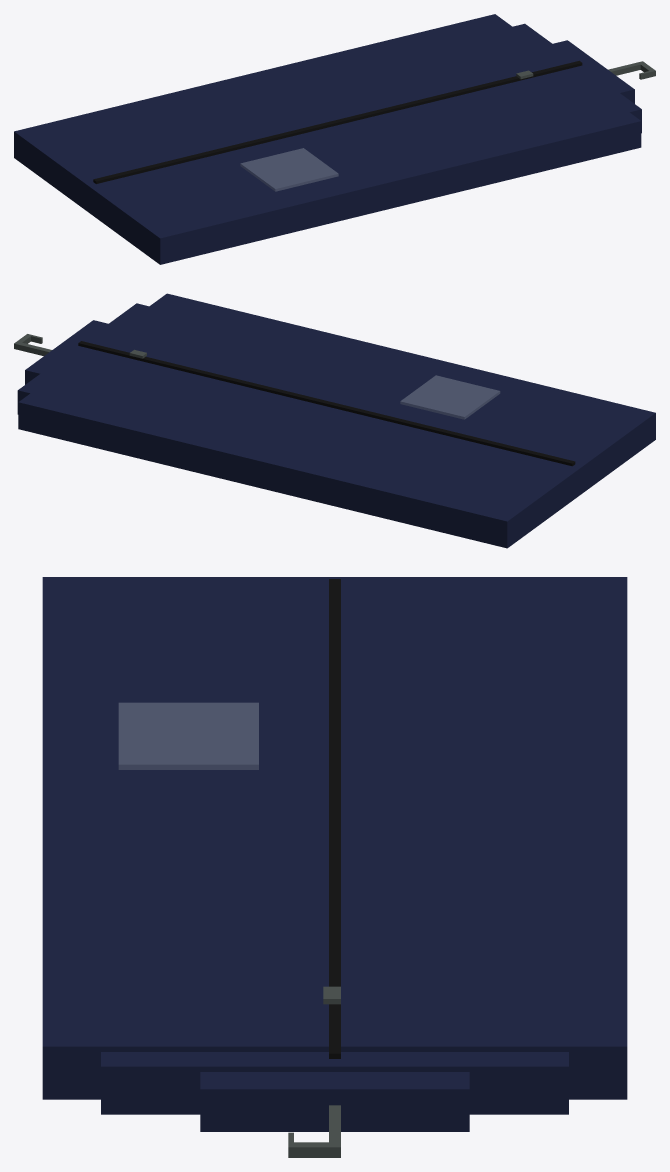
Rendered from outfit_storage.glb.
The picture shows the model from 3 angles, top to bottom: view 1: azimuth 30°, elevation 25°; view 2: azimuth 150°, elevation 25°; view 3: azimuth 270°, elevation 25°; orthographic projection. The views are drawn at different scales.
Parts seen in each view (by area): view 1: outfit_storage:compound; view 2: outfit_storage:compound; view 3: outfit_storage:compound.
Part boxes in pixels (bbox=[...]): outfit_storage:compound: bbox=[14, 14, 655, 264]; outfit_storage:compound: bbox=[14, 293, 655, 548]; outfit_storage:compound: bbox=[42, 577, 627, 1157].
Bounding box in the file's own units: 1.32 × 0.072 × 0.6.
